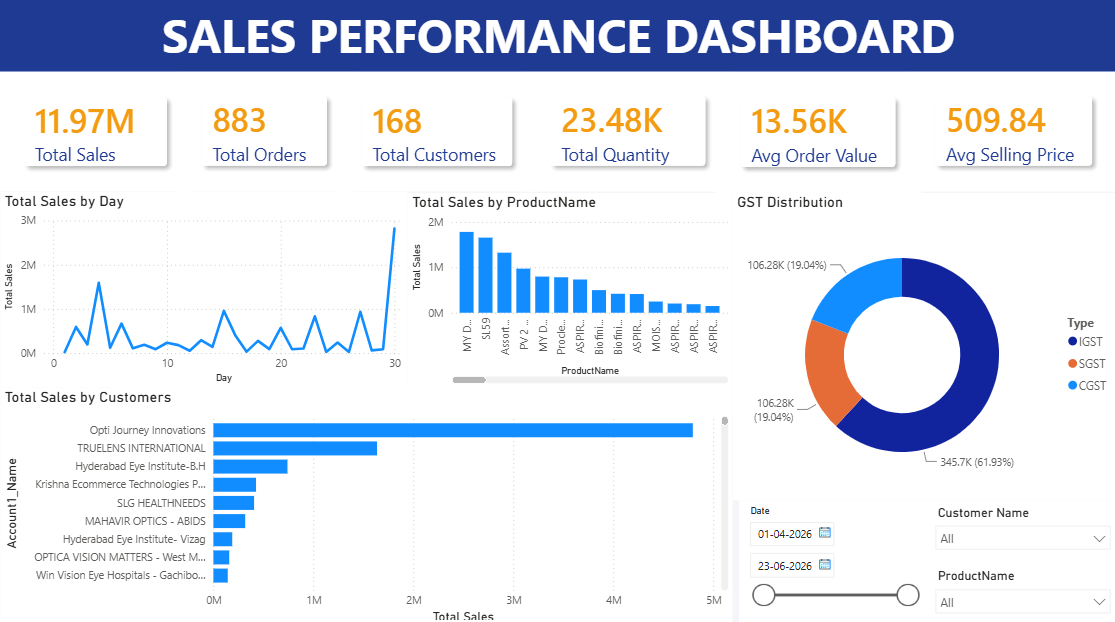

What the dashboard file says about the page in this screenshot:
{"tool":"powerbi","page":{"name":"Landing","canvas":[1280,720],"ordinal":0},"visuals":[{"type":"cardVisual","fields":{"Data":["_Measures.Total Sales"]},"box":[0,84.3,221.4,137.1],"z":0},{"type":"cardVisual","fields":{"Data":["_Measures.Total Orders"]},"box":[202.9,82.9,201.4,138.6],"z":1000},{"type":"cardVisual","fields":{"Data":["_Measures.Total Customers"]},"box":[385.7,84.3,230,137.1],"z":2000},{"type":"cardVisual","fields":{"Data":["_Measures.Total Quantity"]},"box":[601.4,82.9,235.7,138.6],"z":3000},{"type":"cardVisual","fields":{"Data":["_Measures.Avg Order Value"]},"box":[818.6,84.3,235.7,138.6],"z":5000},{"type":"cardVisual","fields":{"Data":["_Measures.Avg Selling Price"]},"box":[1041.4,82.9,237.1,138.6],"z":6000},{"type":"lineChart","fields":{"Category":["sales data 1 april 26 to 23 jun.Date.Variation.Date Hierarchy.Day"],"Y":["_Measures.Total Sales"]},"box":[1.4,221.4,465.7,224.3],"z":7001},{"type":"barChart","title":"Total Sales by Customers","fields":{"Category":["sales data 1 april 26 to 23 jun.Account1_Name"],"Y":["_Measures.Total Sales"]},"box":[1.4,445.7,837.1,274.3],"z":7002},{"type":"columnChart","fields":{"Category":["sales data 1 april 26 to 23 jun.ProductName"],"Y":["_Measures.Total Sales"]},"box":[467.1,222.9,371.4,222.9],"z":7003},{"type":"donutChart","title":"GST Distribution","fields":{"Category":["GST Summary.Type"],"Y":["Sum(GST Summary.Amount)"]},"box":[838.6,222.9,441.4,351.4],"z":7004},{"type":"slicer","fields":{"Values":["sales data 1 april 26 to 23 jun.Date"]},"box":[845.7,574.3,214.3,145.7],"z":7005},{"type":"slicer","fields":{"Values":["sales data 1 april 26 to 23 jun.ProductName"]},"box":[1060,647.1,220,72.9],"z":7006},{"type":"slicer","fields":{"Values":["sales data 1 april 26 to 23 jun.Account1_Name"]},"box":[1060,574.3,220,72.9],"z":7007},{"type":"textbox","box":[0,0,1278.6,84.3],"z":7008}]}

Visuals, with their boxes in screenshot pixels (x1, y1, x2, y2), scaled from the page's 1280x720 canvas onto the 1115x622 screenshot:
cardVisual - _Measures.Total Sales: {"left": 0, "top": 73, "right": 193, "bottom": 191}
cardVisual - _Measures.Total Orders: {"left": 177, "top": 72, "right": 352, "bottom": 191}
cardVisual - _Measures.Total Customers: {"left": 336, "top": 73, "right": 536, "bottom": 191}
cardVisual - _Measures.Total Quantity: {"left": 524, "top": 72, "right": 729, "bottom": 191}
cardVisual - _Measures.Avg Order Value: {"left": 713, "top": 73, "right": 918, "bottom": 193}
cardVisual - _Measures.Avg Selling Price: {"left": 907, "top": 72, "right": 1114, "bottom": 191}
lineChart - sales data 1 april 26 to 23 jun.Date.Variation.Date Hierarchy.Day x _Measures.Total Sales: {"left": 1, "top": 191, "right": 407, "bottom": 385}
"Total Sales by Customers" barChart: {"left": 1, "top": 385, "right": 730, "bottom": 621}
columnChart - sales data 1 april 26 to 23 jun.ProductName x _Measures.Total Sales: {"left": 407, "top": 193, "right": 730, "bottom": 385}
"GST Distribution" donutChart: {"left": 730, "top": 193, "right": 1114, "bottom": 496}
slicer - sales data 1 april 26 to 23 jun.Date: {"left": 737, "top": 496, "right": 923, "bottom": 621}
slicer - sales data 1 april 26 to 23 jun.ProductName: {"left": 923, "top": 559, "right": 1114, "bottom": 621}
slicer - sales data 1 april 26 to 23 jun.Account1_Name: {"left": 923, "top": 496, "right": 1114, "bottom": 559}
textbox: {"left": 0, "top": 0, "right": 1114, "bottom": 73}
